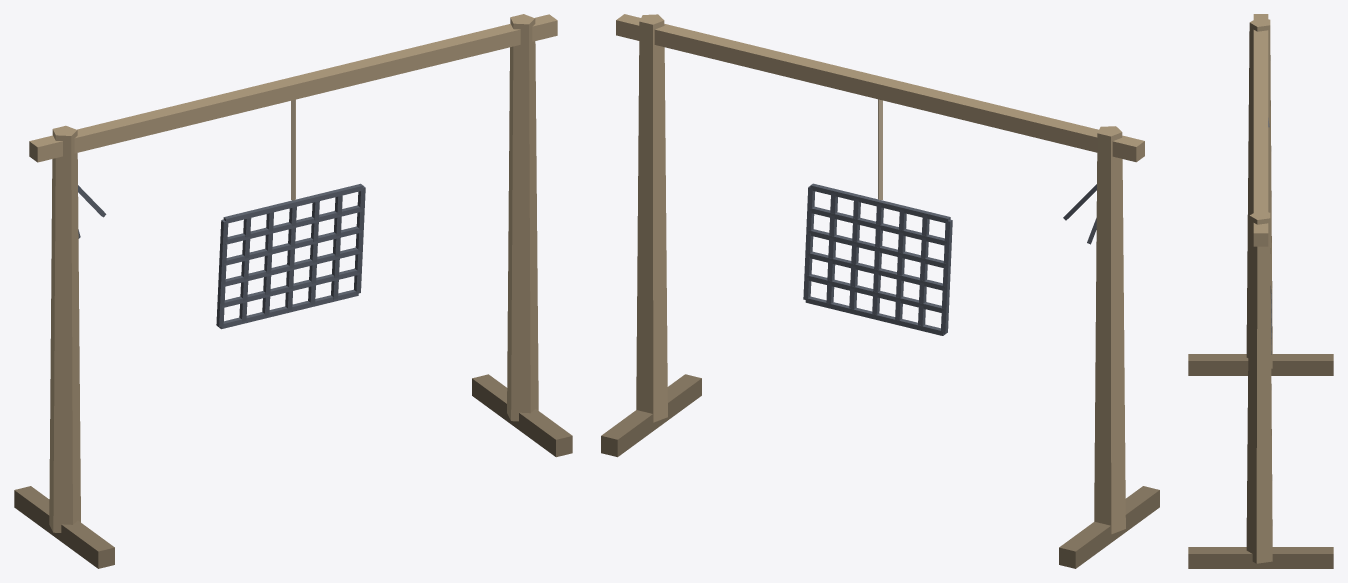
The model's file is net_frame.glb.
3 renders of one model, left to right at view 1: azimuth 30°, elevation 25°; view 2: azimuth 150°, elevation 25°; view 3: azimuth 270°, elevation 25°, orthographic. The views are drawn at different scales.
Parts seen in each view (by area): view 1: driftwood_d10, slate_d10, driftwood_d30; view 2: driftwood_d10, slate_d10, driftwood_d30; view 3: driftwood_d10, driftwood_d30.
Part boxes in pixels (<box>): driftwood_d10: <box>29,14,557,532</box>; slate_d10: <box>78,183,365,329</box>; driftwood_d30: <box>14,374,572,568</box>; driftwood_d10: <box>616,14,1144,534</box>; slate_d10: <box>803,183,1096,335</box>; driftwood_d30: <box>601,374,1159,568</box>; driftwood_d10: <box>1246,14,1272,563</box>; driftwood_d30: <box>1188,354,1333,568</box>.
Size of the model in its own units: 2.5 by 1.86 by 0.7.
